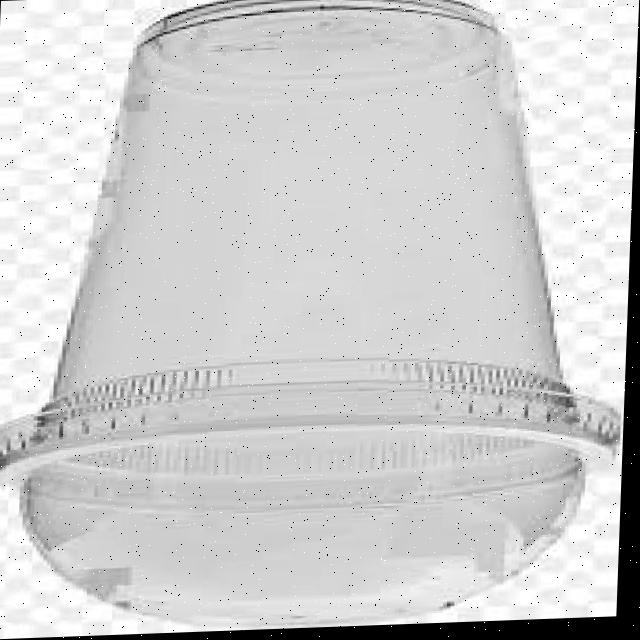cup: (4, 0, 636, 499)
